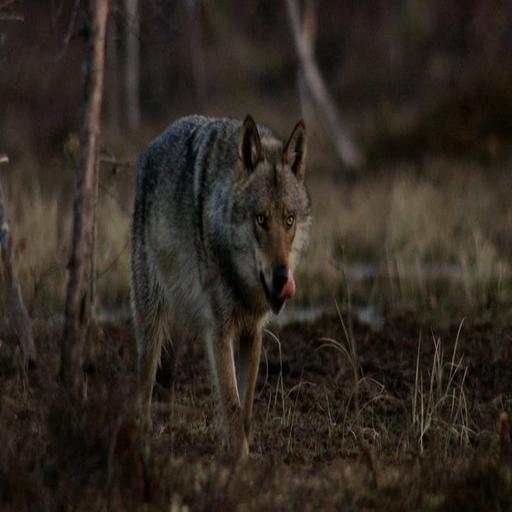Wolf: (115, 105, 322, 479)
